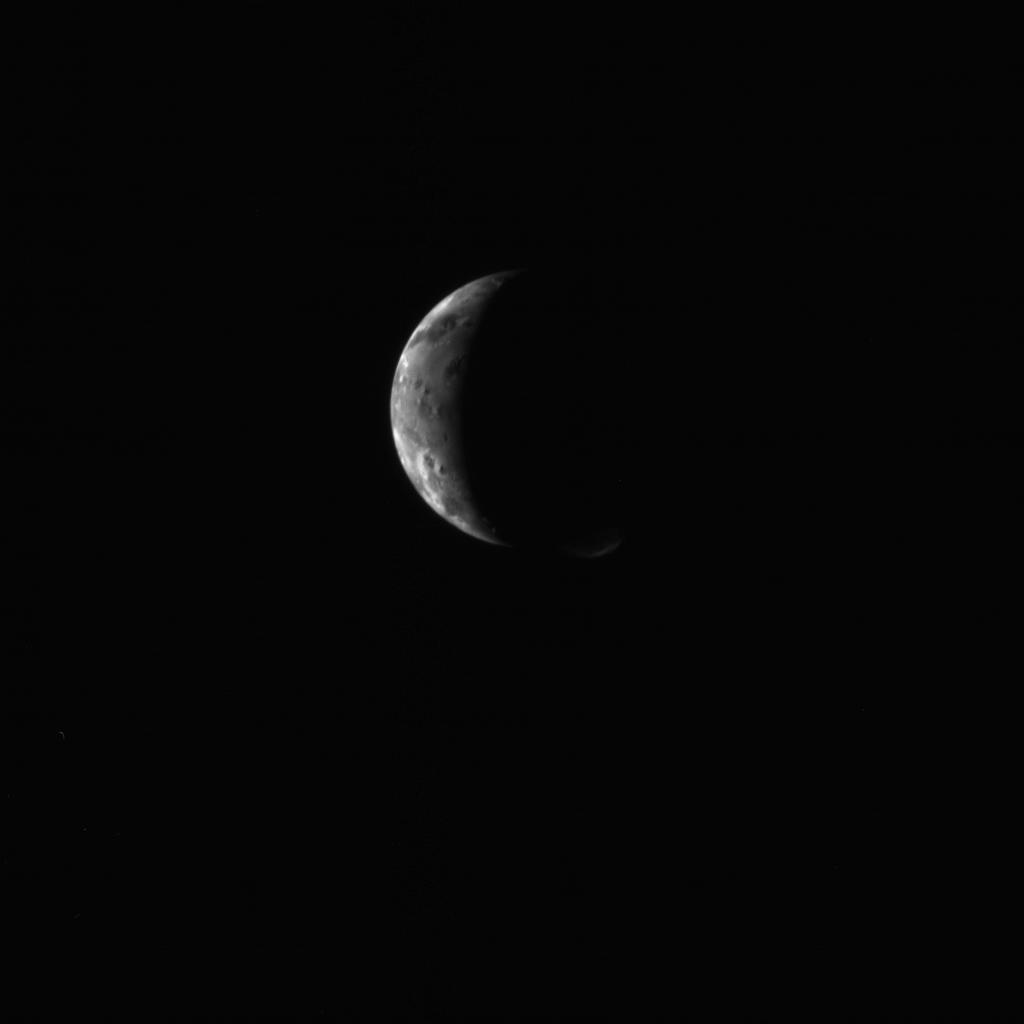plumes: (591, 542, 623, 560)
